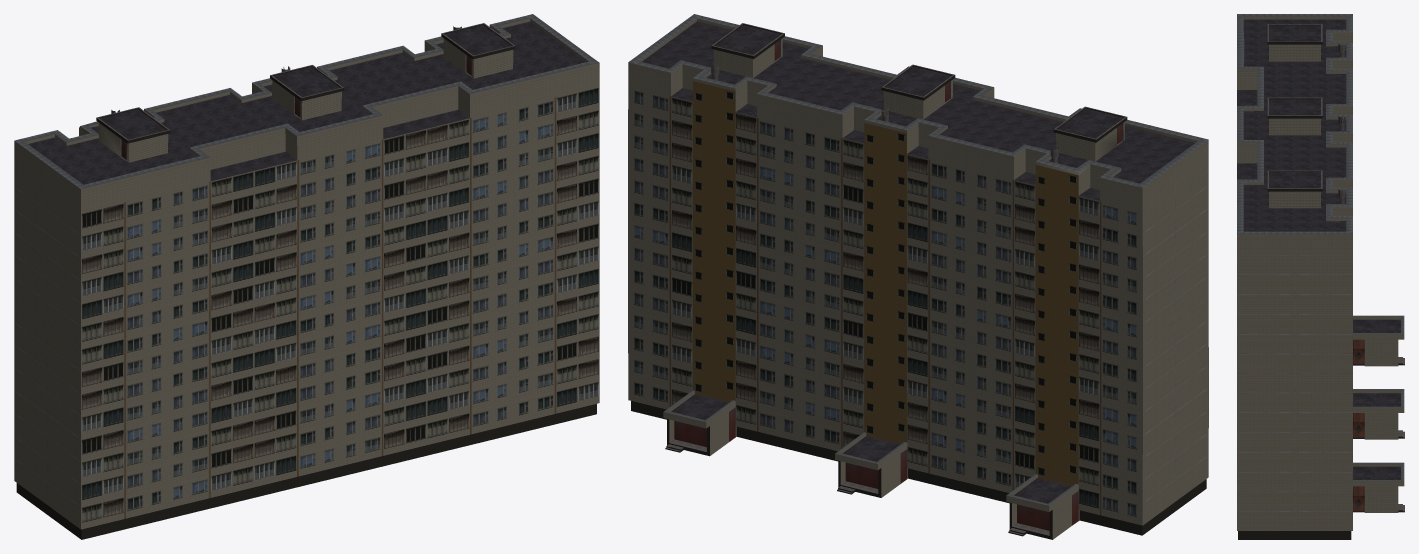
The model's file is prlBlock16.glb.
The picture shows the model from 3 angles, left to right: view 1: azimuth 30°, elevation 25°; view 2: azimuth 150°, elevation 25°; view 3: azimuth 270°, elevation 25°; orthographic projection. The views are drawn at different scales.
Parts seen in each view (by area): view 1: None_dombokwall.png, None_krisha.png, None_balkons2.png, None_balkons3.png, None_balkons1.png, None_balkons4.png, None_whiteplitka.png, None_my16wins1.png, None_my16wins2.png, None_my16wins4.png, None_my16wins6.png, None_my16wins5.png (+5 smaller); view 2: None_podezdwall.png, None_dombokwall.png, None_krisha.png, None_my16wins2.png, None_whiteplitka.png, None_balkons2.png, None_balkons4.png, None_my16wins7.png, None_my16wins6.png, None_my16wins3.png, None_my16wins1.png, None_my16wins5.png (+7 smaller); view 3: None_dombokwall.png, None_krisha.png, None_whiteplitka.png, None, None_blackplitka.png, None_b_metall.png, None_mysorndoor.png.
Boxes of the visible parts, <box> form: None_dombokwall.png: <box>14,18,599,529</box>; None_krisha.png: <box>28,21,585,184</box>; None_balkons2.png: <box>81,132,599,365</box>; None_balkons3.png: <box>81,86,599,407</box>; None_balkons1.png: <box>81,160,599,529</box>; None_balkons4.png: <box>81,118,599,497</box>; None_whiteplitka.png: <box>14,38,599,212</box>; None_my16wins1.png: <box>124,226,556,434</box>; None_my16wins2.png: <box>124,233,556,428</box>; None_my16wins4.png: <box>124,181,383,476</box>; None_my16wins6.png: <box>297,97,556,295</box>; None_my16wins5.png: <box>297,139,383,386</box>; None_podezdwall.png: <box>693,81,1078,485</box>; None_dombokwall.png: <box>628,18,1208,525</box>; None_krisha.png: <box>642,21,1194,503</box>; None_my16wins2.png: <box>628,117,1142,525</box>; None_whiteplitka.png: <box>628,38,1208,539</box>; None_balkons2.png: <box>671,96,1099,472</box>; None_balkons4.png: <box>671,231,1099,514</box>; None_my16wins7.png: <box>757,162,1142,435</box>; None_my16wins6.png: <box>757,246,1142,362</box>; None_my16wins3.png: <box>628,131,1013,314</box>; None_my16wins1.png: <box>628,310,1013,492</box>; None_my16wins5.png: <box>757,201,1142,451</box>; None_dombokwall.png: <box>1237,16,1352,530</box>; None_krisha.png: <box>1237,19,1400,479</box>; None_whiteplitka.png: <box>1237,35,1404,512</box>; None: <box>1237,14,1404,480</box>; None_blackplitka.png: <box>1238,24,1404,539</box>; None_b_metall.png: <box>1267,24,1404,511</box>; None_mysorndoor.png: <box>1353,339,1364,512</box>.
Bounding box in the file's own units: 72.03 × 49.31 × 23.19.
20 materials, 20 textured.
